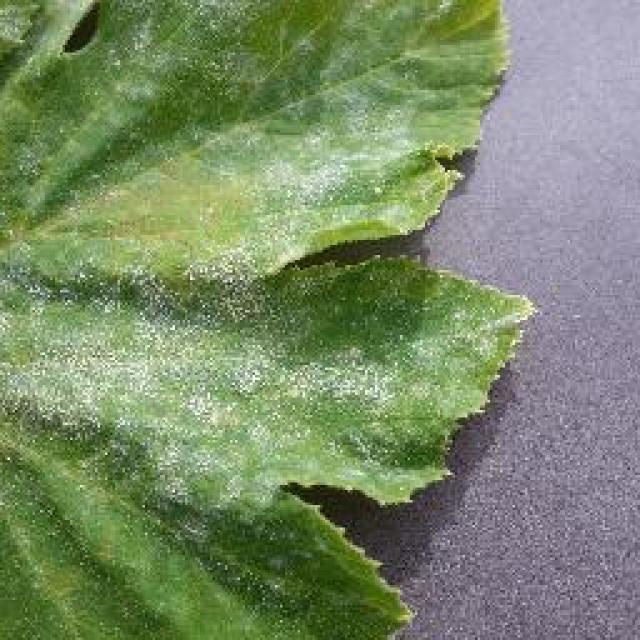Squ_Powdery_mildew: (0, 2, 342, 595)
